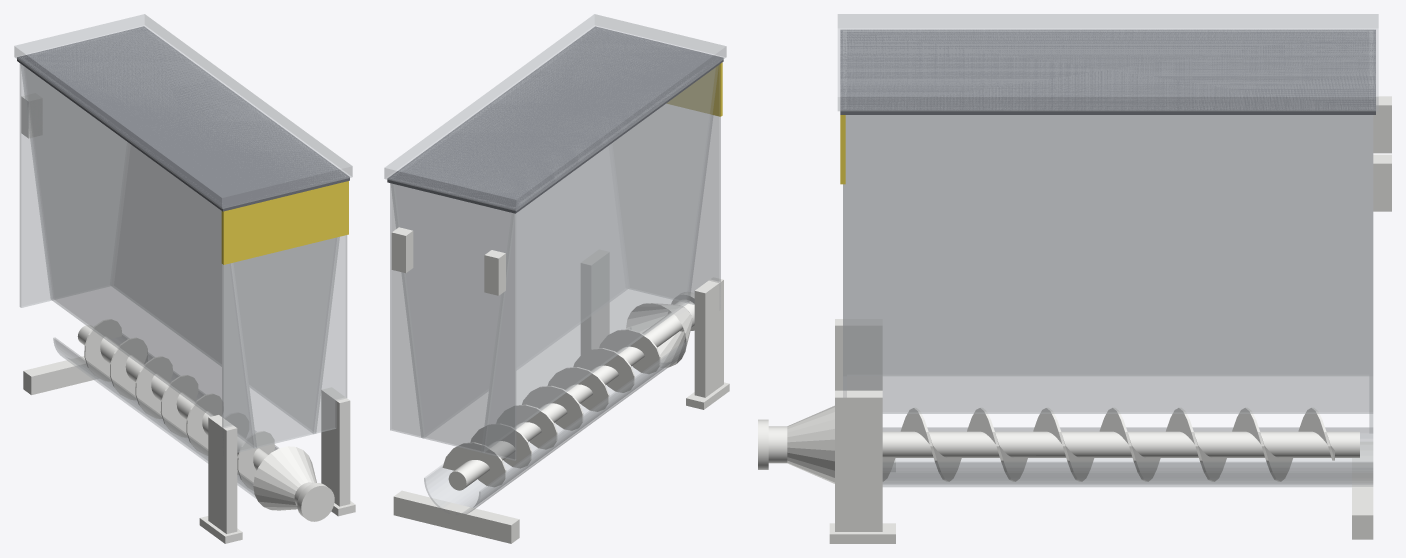
File: kaset_pro.glb
The picture shows the model from 3 angles, left to right: view 1: azimuth 30°, elevation 25°; view 2: azimuth 150°, elevation 25°; view 3: azimuth 270°, elevation 25°; orthographic projection. The views are drawn at different scales.
Parts seen in each view (by area): view 1: govde_yan, kapak, conta, govde_on, govde_arka, kanat, bant, ayak-1, ayak1, cikis_hunisi, yatak, mil (+4 smaller); view 2: govde_yan, kapak, govde_arka, conta, govde_on, kanat, yatak, mil, ayak_arka, ayak-1, ayak1, cikis_hunisi (+4 smaller); view 3: govde_yan, kapak, conta, yatak, mil, kanat, ayak1, ayak-1, cikis_hunisi, ayak_arka, govde_arka, tirnak1 (+4 smaller).
Boxes of the visible parts, x1=… form: govde_yan: x1=21, y1=57, x2=339, y2=448; kapak: x1=14, y1=14, x2=352, y2=208; conta: x1=17, y1=26, x2=349, y2=211; govde_on: x1=222, y1=235, x2=347, y2=452; govde_arka: x1=19, y1=42, x2=126, y2=307; kanat: x1=84, y1=319, x2=274, y2=490; bant: x1=221, y1=181, x2=348, y2=264; ayak-1: x1=208, y1=415, x2=237, y2=533; ayak1: x1=321, y1=387, x2=350, y2=506; cikis_hunisi: x1=253, y1=446, x2=316, y2=510; yatak: x1=53, y1=334, x2=278, y2=498; mil: x1=77, y1=325, x2=267, y2=470; govde_yan: x1=391, y1=65, x2=718, y2=452; kapak: x1=384, y1=14, x2=726, y2=210; govde_arka: x1=390, y1=183, x2=516, y2=460; conta: x1=387, y1=26, x2=723, y2=213; govde_on: x1=612, y1=65, x2=720, y2=310; kanat: x1=442, y1=329, x2=660, y2=487; yatak: x1=424, y1=328, x2=686, y2=514; mil: x1=448, y1=312, x2=683, y2=490; ayak_arka: x1=393, y1=490, x2=519, y2=543; ayak-1: x1=694, y1=277, x2=723, y2=397; ayak1: x1=580, y1=250, x2=609, y2=354; cikis_hunisi: x1=626, y1=303, x2=692, y2=367; govde_yan: x1=843, y1=31, x2=1373, y2=413; kapak: x1=837, y1=14, x2=1378, y2=111; conta: x1=840, y1=29, x2=1375, y2=114; yatak: x1=882, y1=427, x2=1373, y2=487; mil: x1=882, y1=431, x2=1359, y2=457; kanat: x1=882, y1=407, x2=1334, y2=481; ayak1: x1=835, y1=390, x2=882, y2=531; ayak-1: x1=835, y1=319, x2=882, y2=390; cikis_hunisi: x1=787, y1=405, x2=834, y2=483; ayak_arka: x1=1352, y1=441, x2=1373, y2=539; govde_arka: x1=1369, y1=31, x2=1373, y2=433; tirnak1: x1=1373, y1=154, x2=1391, y2=211.
Bounding box in the file's own units: 0.148 × 0.372 × 0.478.
